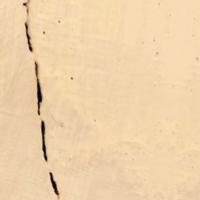crack: (13, 0, 90, 199)
